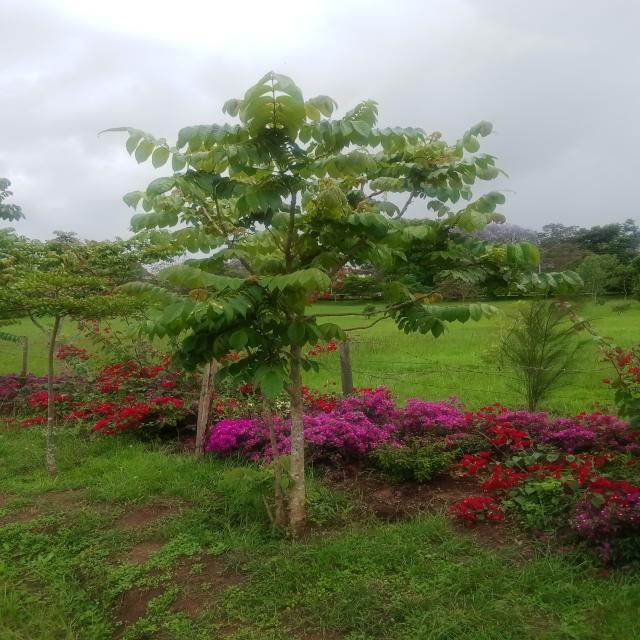Polyscias Kikuyensis: (110, 46, 586, 533)
